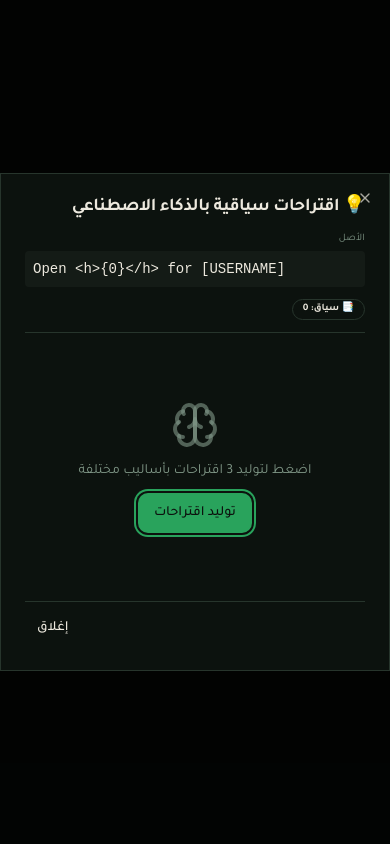
Test: ContextSuggestPanel — LumenTale token contract › does not apply the LumenTale-only token gate to another game's contextual suggestion
Later steps or results of the test are not shown.
Click the button "توليد اقتراحات": (195, 513) [138, 493, 252, 533]
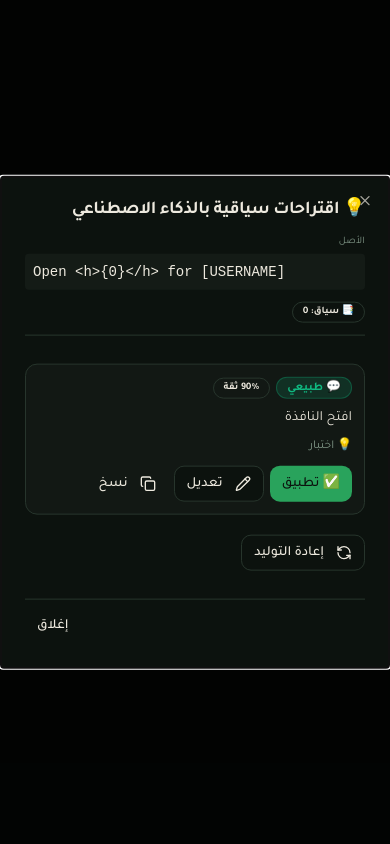
Now the button "✅ تطبيق" is enabled, box [270, 465, 352, 501]
